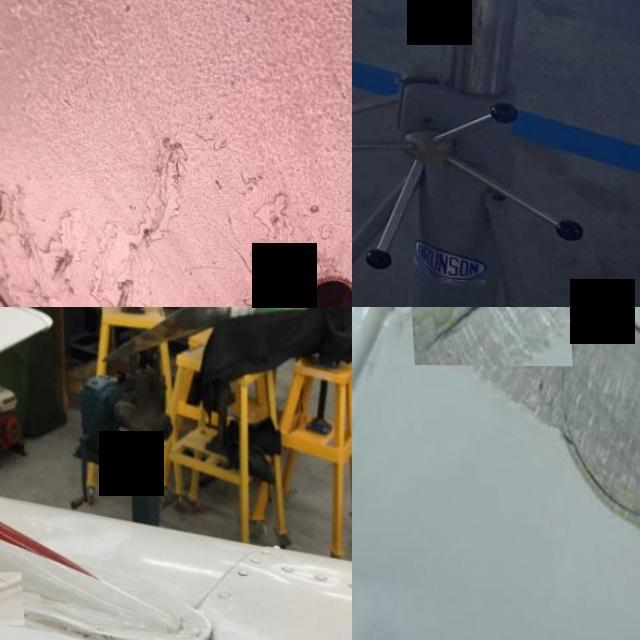Crack: (30, 596, 224, 640), (411, 307, 516, 365), (0, 571, 20, 625)
Missing_Fastener: (251, 239, 352, 307)
